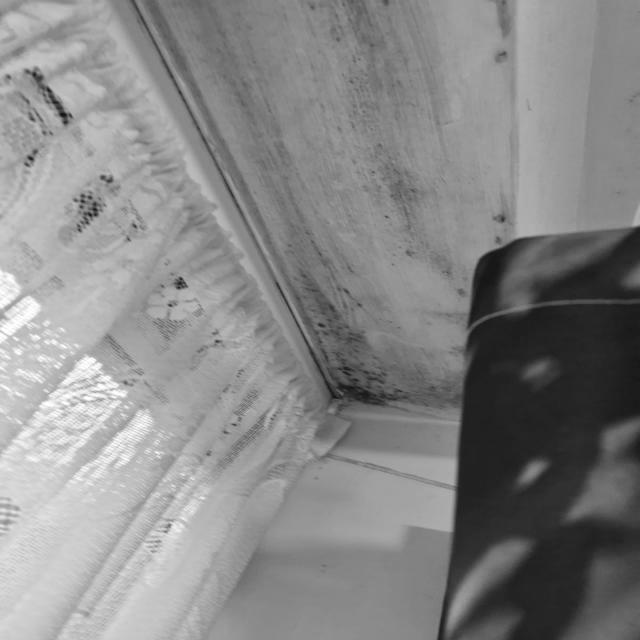stain marks: (158, 0, 447, 72), (249, 130, 476, 204), (290, 273, 405, 411), (213, 68, 468, 130), (283, 204, 482, 276), (409, 298, 474, 410), (600, 85, 640, 209), (485, 0, 519, 79), (485, 164, 514, 251)
